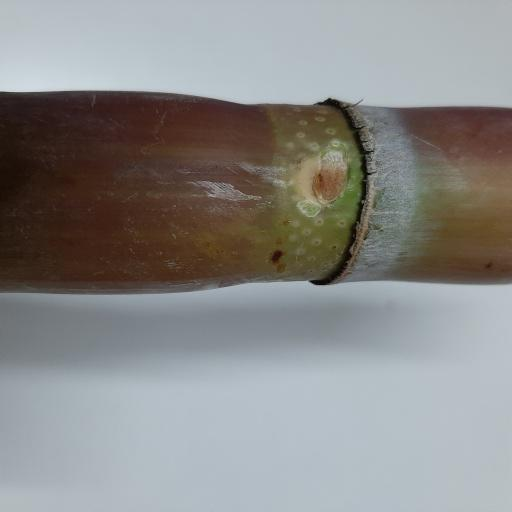Damage_Bud: (312, 145, 349, 204)
